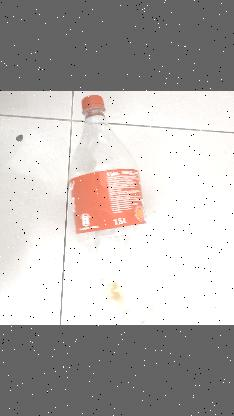Plastic Bottle: (58, 92, 184, 325)
